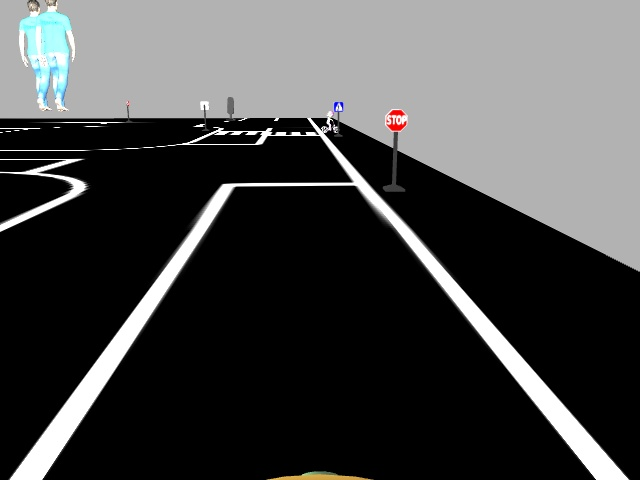Stop: (383, 105, 410, 133)
